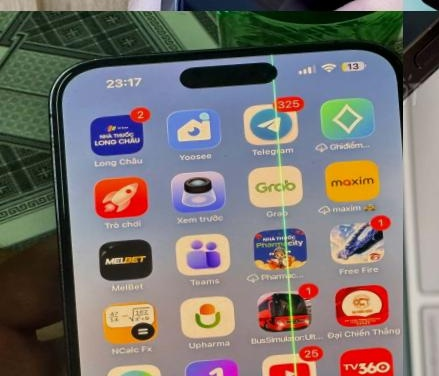scratch: (409, 11, 439, 40)
screen_defect: (278, 228, 311, 376), (266, 76, 291, 227), (266, 53, 274, 65)
